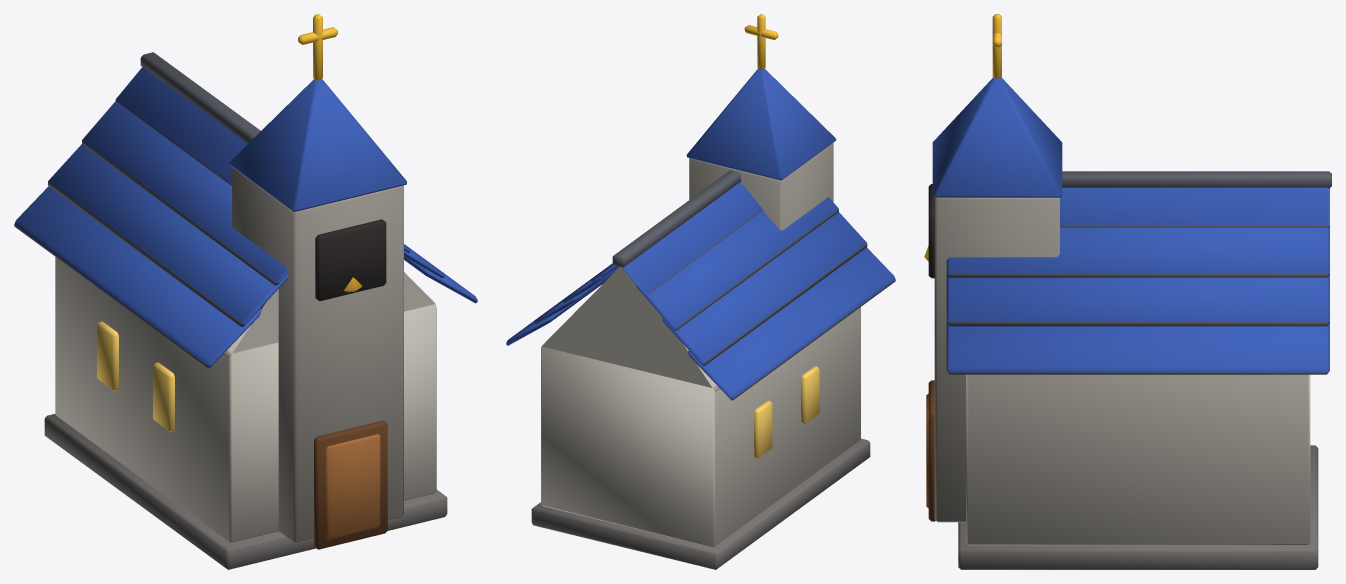
File: B_MedChapel.fbx
The picture shows the model from 3 angles, left to right: view 1: azimuth 30°, elevation 25°; view 2: azimuth 150°, elevation 25°; view 3: azimuth 270°, elevation 25°; orthographic projection. The views are drawn at different scales.
Parts seen in each view (by area): view 1: M_Chapel; view 2: M_Chapel; view 3: M_Chapel.
Part boxes in pixels (x1,y1,x2,y2): M_Chapel: (14, 14, 477, 569); M_Chapel: (506, 14, 895, 569); M_Chapel: (924, 14, 1331, 569).
Bounding box in the file's own units: 3.9 × 7.1 × 5.21.
Materials: 1 (1 with a texture image).
